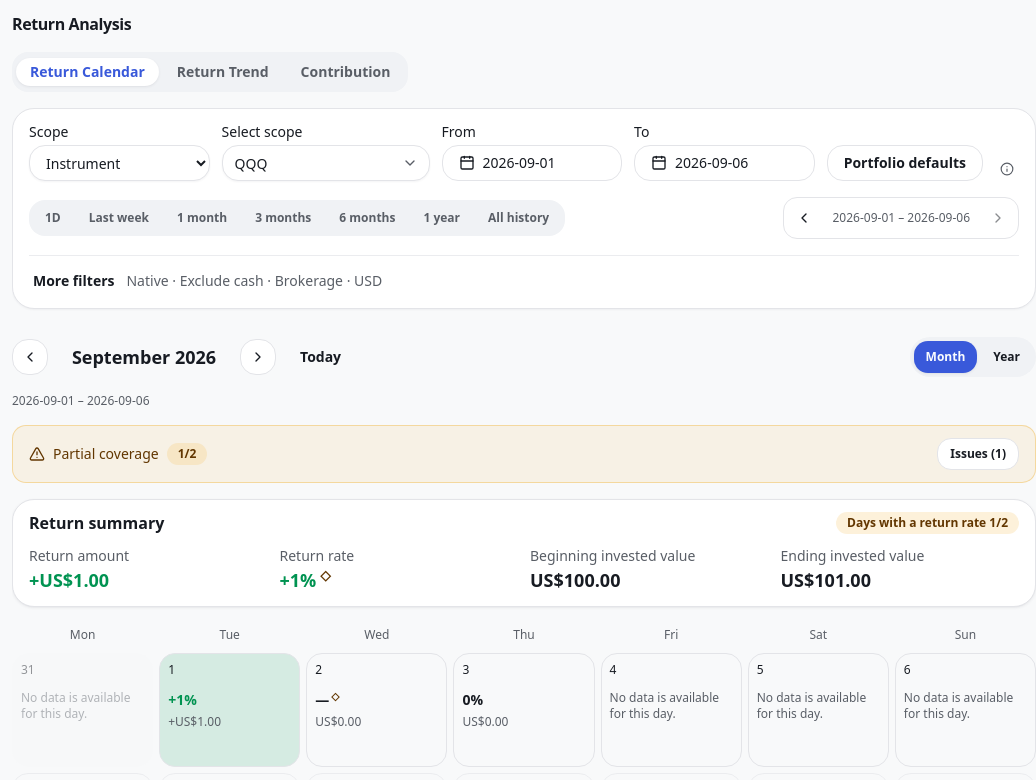
Test: ReturnAnalysisPage › keeps the browsed month and object filters when switching to contribution
Expected: the heading "September 2026" is shown, 72,345 -> 216,369
What coordinates should you click on to do the following:
click the button named "Previous"
I would click on:
 (30, 357)
Its box is 12,339 -> 48,375.
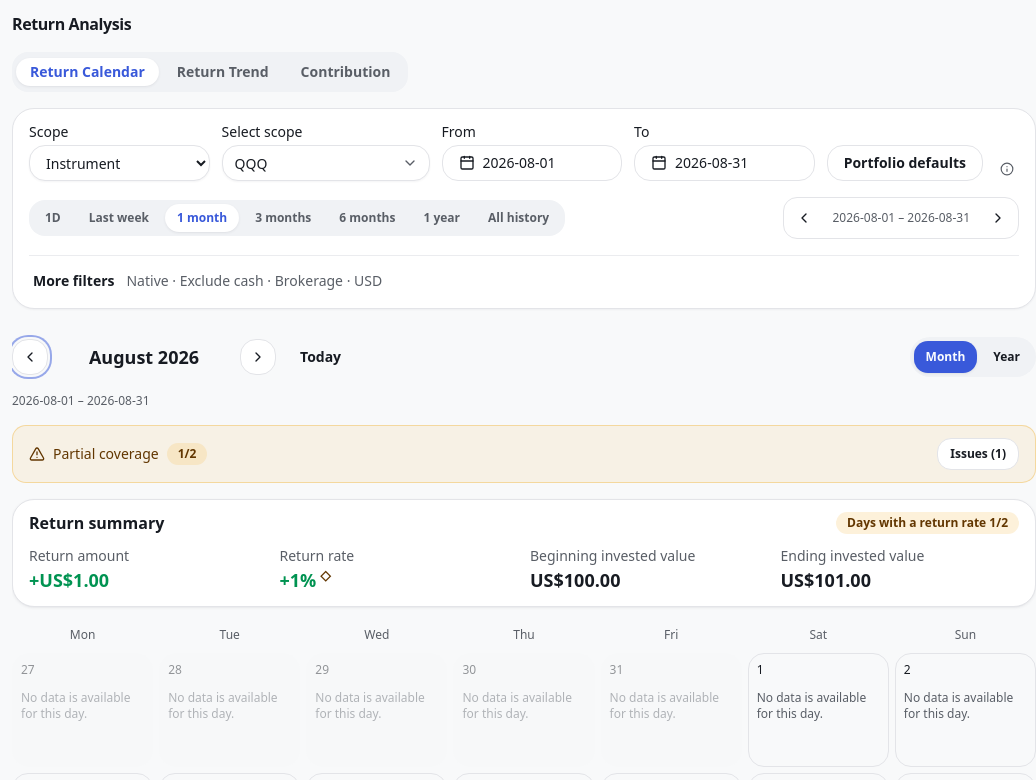
What coordinates should you click on to do the following:
click the tab "Contribution"
I would click on:
 (346, 72)
Its box is 287,58 -> 404,86.
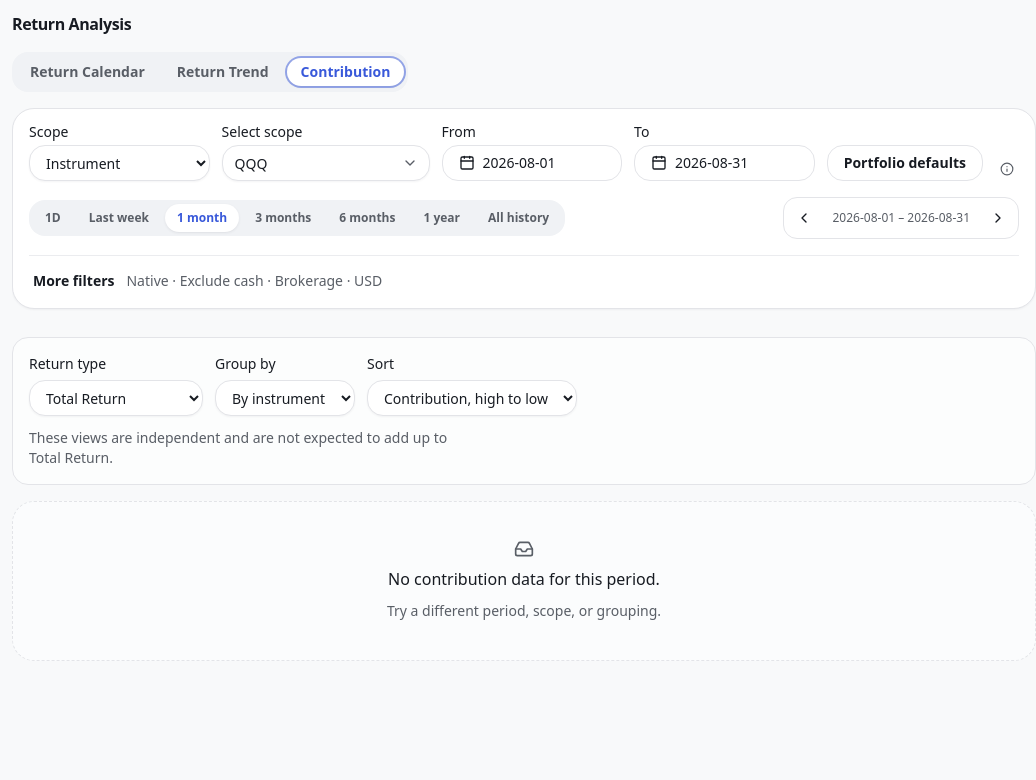
What coordinates should you click on to do the following:
click the tab "Return Calendar"
I would click on:
 (87, 72)
Its box is 16,58 -> 159,86.
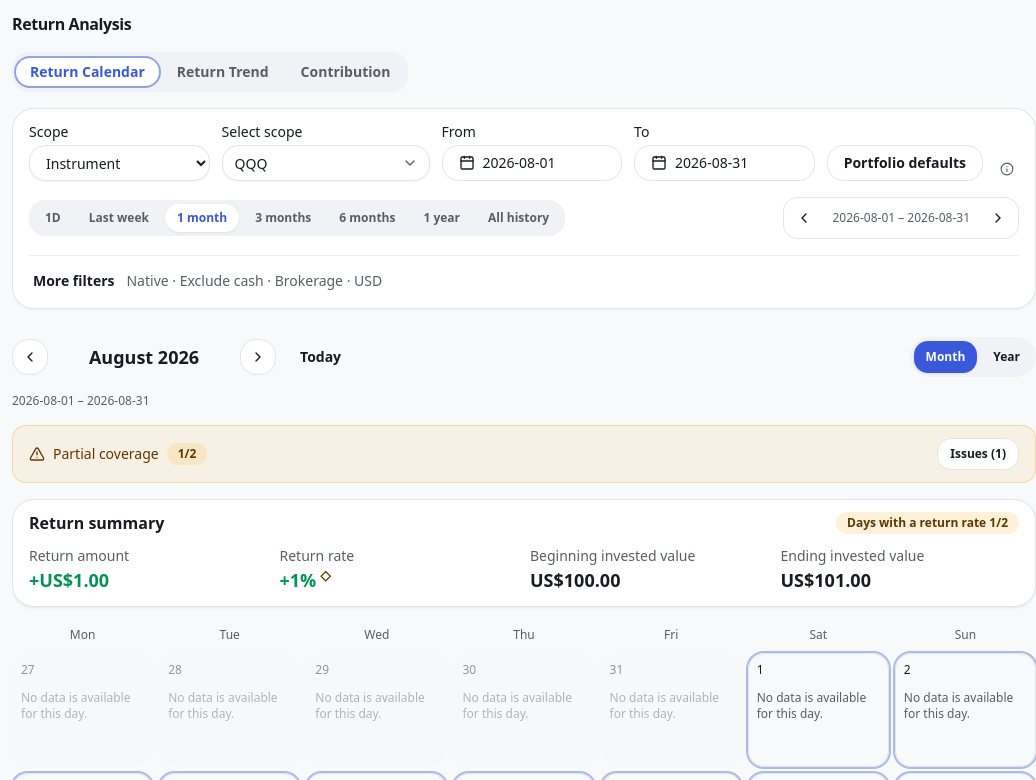
Now the heading "August 2026" is shown, box 89,345 -> 199,369
